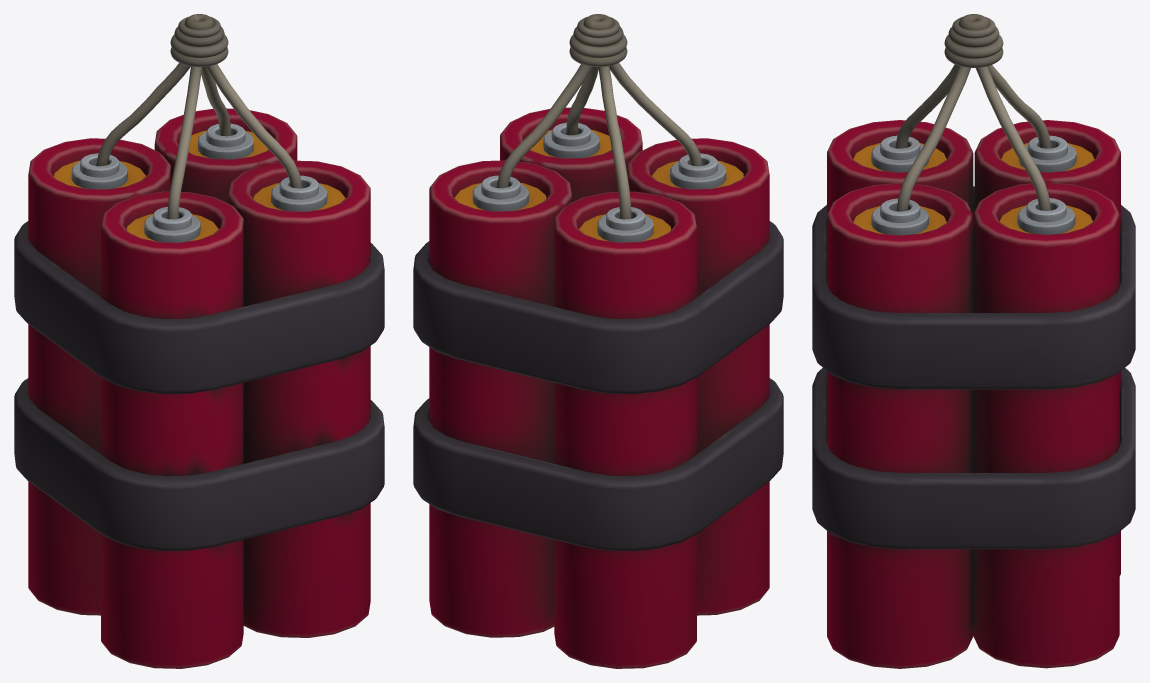
The model's file is tnt.fbx.
The picture shows the model from 3 angles, left to right: view 1: azimuth 30°, elevation 25°; view 2: azimuth 150°, elevation 25°; view 3: azimuth 270°, elevation 25°; orthographic projection.
Visible parts, largest first — view 1: Dynamite2, Straps, FabricDynamite; view 2: Dynamite2, Straps, FabricDynamite; view 3: Dynamite2, Straps, FabricDynamite.
Boxes of the visible parts, left/top/right/bottom form: Dynamite2: left=28, top=108, right=370, bottom=668; Straps: left=14, top=221, right=384, bottom=551; FabricDynamite: left=96, top=14, right=302, bottom=219; Dynamite2: left=429, top=107, right=769, bottom=668; Straps: left=413, top=221, right=783, bottom=551; FabricDynamite: left=496, top=14, right=702, bottom=219; Dynamite2: left=827, top=120, right=1120, bottom=668; Straps: left=812, top=186, right=1135, bottom=549; FabricDynamite: left=895, top=14, right=1051, bottom=211.
Bounding box in the file's own units: 27.39 × 55.07 × 27.39.
